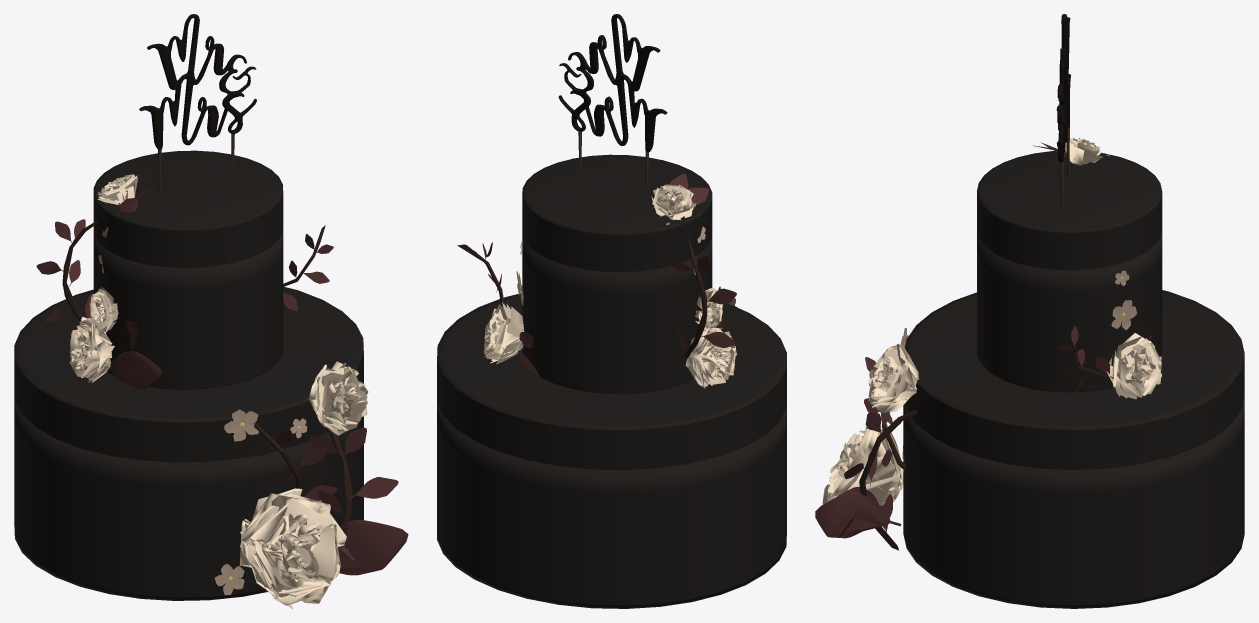
File: 2-tier-black-roses-mrms.glb
3 renders of one model, left to right at view 1: azimuth 30°, elevation 25°; view 2: azimuth 150°, elevation 25°; view 3: azimuth 270°, elevation 25°, orthographic.
Parts seen in each view (by area): view 1: Cylinder.023, Cylinder.013, grid.025, mrms, grid.024, Plane.049, Plane.059, grid.026, Plane.056, Plane.058, Plane.052, Plane.045 (+4 smaller); view 2: Cylinder.023, Cylinder.013, mrms, grid.026, Plane.056, grid.028, grid.014, grid.027, Plane.045; view 3: Cylinder.023, Cylinder.013, grid.025, grid.028, Plane.049, grid.024, mrms, Plane.059, Plane.045, grid.014, Plane.058.
Part boxes in pixels (box(x1,y1,x2,y2)): Cylinder.023: box(14, 287, 363, 600); Cylinder.013: box(93, 150, 283, 389); grid.025: box(239, 488, 346, 608); mrms: box(139, 14, 256, 197); grid.024: box(308, 361, 368, 435); Plane.049: box(338, 519, 408, 575); Plane.059: box(310, 427, 398, 561); grid.026: box(69, 316, 114, 382); Plane.056: box(36, 219, 97, 322); Plane.058: box(251, 423, 336, 500); Plane.052: box(109, 351, 161, 389); Plane.045: box(283, 225, 333, 310); Cylinder.023: box(437, 293, 786, 608); Cylinder.013: box(522, 154, 712, 394); mrms: box(558, 14, 667, 200); grid.026: box(685, 327, 737, 388); Plane.056: box(669, 238, 736, 358); grid.028: box(484, 302, 524, 364); grid.014: box(651, 184, 696, 220); grid.027: box(695, 288, 722, 332); Plane.045: box(457, 242, 509, 307); Cylinder.023: box(903, 290, 1244, 608); Cylinder.013: box(977, 150, 1162, 392); grid.025: box(822, 419, 903, 505); grid.028: box(1106, 333, 1161, 399); Plane.049: box(815, 487, 901, 538); grid.024: box(868, 343, 919, 412); mrms: box(1056, 14, 1070, 210); Plane.059: box(840, 410, 917, 550); Plane.045: box(1056, 326, 1113, 395); grid.014: box(1065, 138, 1103, 165); Plane.058: box(864, 357, 905, 471).
Size of the model in its own units: 3.4 by 5.61 by 4.11.
